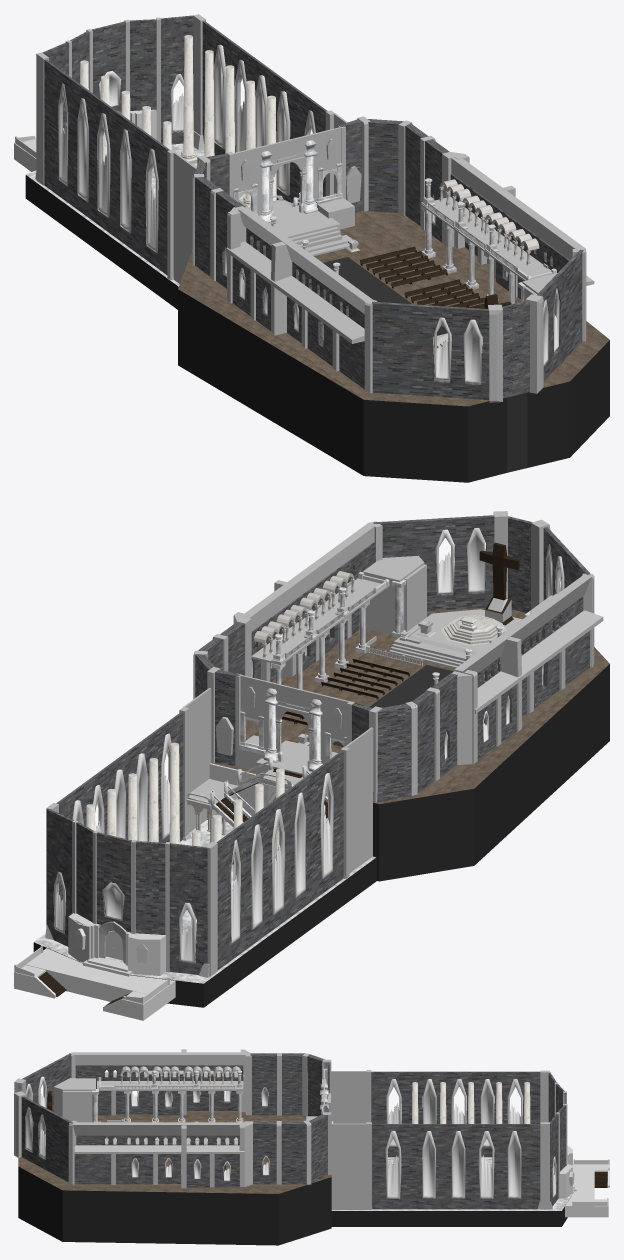
Rendered from ChurchPolished.fbx.
3 renders of one model, top to bottom at view 1: azimuth 30°, elevation 25°; view 2: azimuth 150°, elevation 25°; view 3: azimuth 270°, elevation 25°, orthographic. The views are drawn at different scales.
Visible parts, largest first — view 1: Boden-groß, Seitenwand R, Altar Rückwand R, Boden.002, Seitenwand L, Altar Rückwand L, Aussen Wandteil01 R, Aussen Wandteil02 L, WandL-01, Aussen Wandteil02 R, Altar Rückwand Mitte, Wandteil Eingang 04 (+52 smaller); view 2: Boden-groß, Seitenwand R, Boden.002, Altar Rückwand L, Seitenwand L, Wandteil Eingang 01, Steinboden, Seitenwand bei Treppe, WandR-01, Aussen Wandteil02 L, Wandteil Eingang 02, Aussen Wandteil01 R (+53 smaller); view 3: Boden-groß, Seitenwand L, Seitenwand R, Boden.002, Seitenwand bei Treppe L, Altar Rückwand L, Aussen Wandteil02 R, Aussen Wandteil02 L, Seitenwand bei Treppe, WandR-09, WandL-02, WandL-09 (+54 smaller).
Boxes of the visible parts, x1,y1,x2,y2 form: Boden-groß: (178,211,609,482); Seitenwand R: (44,59,169,274); Altar Rückwand R: (371,301,488,399); Boden.002: (25,143,245,309); Seitenwand L: (202,21,327,205); Altar Rückwand L: (537,249,583,380); Aussen Wandteil01 R: (226,241,364,343); Aussen Wandteil02 L: (451,157,585,259); WandL-01: (368,119,403,212); Aussen Wandteil02 R: (238,207,373,313); Altar Rückwand Mitte: (502,301,529,398); Wandteil Eingang 04: (129,19,156,110); Boden-groß: (211,608,609,881); Seitenwand R: (216,751,343,970); Boden.002: (33,820,376,1007); Altar Rückwand L: (373,515,494,611); Seitenwand L: (56,712,183,901); Wandteil Eingang 01: (169,843,207,974); Steinboden: (26,948,175,1011); Seitenwand bei Treppe: (344,727,373,872); WandR-01: (373,704,411,802); Aussen Wandteil02 L: (245,522,376,631); Wandteil Eingang 02: (135,841,165,934); Aussen Wandteil01 R: (474,610,603,713); Boden-groß: (18,1105,331,1245); Seitenwand L: (372,1124,540,1209); Seitenwand R: (371,1071,540,1157); Boden.002: (331,1157,574,1226); Seitenwand bei Treppe L: (331,1123,366,1209); Altar Rückwand L: (21,1096,73,1182); Aussen Wandteil02 R: (73,1052,245,1067); Aussen Wandteil02 L: (73,1122,244,1135); Seitenwand bei Treppe: (331,1071,367,1123); WandR-09: (75,1065,243,1080); WandL-02: (281,1121,305,1184); WandL-09: (76,1135,239,1145).
Bounding box in the file's own units: 15742 × 8920 × 42532.
